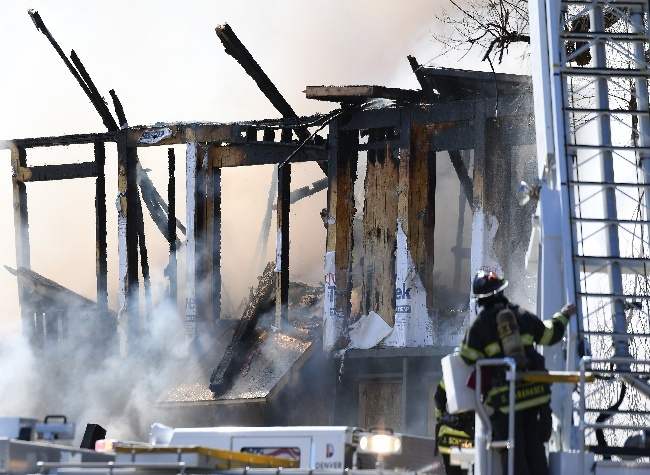Smoke: (50, 332, 199, 408)
